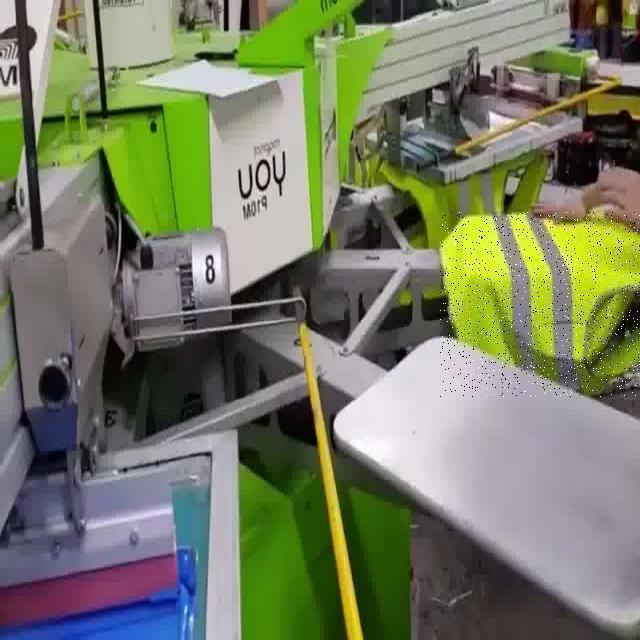safety_vest: (440, 212, 640, 397)
